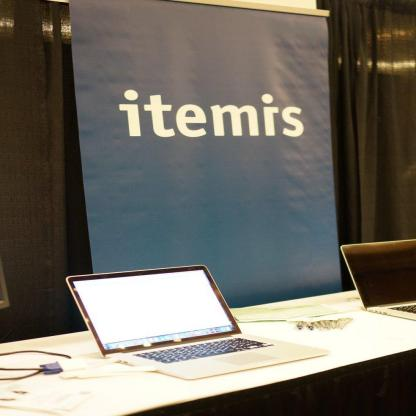board: (66, 265, 330, 381), (337, 239, 416, 321)
